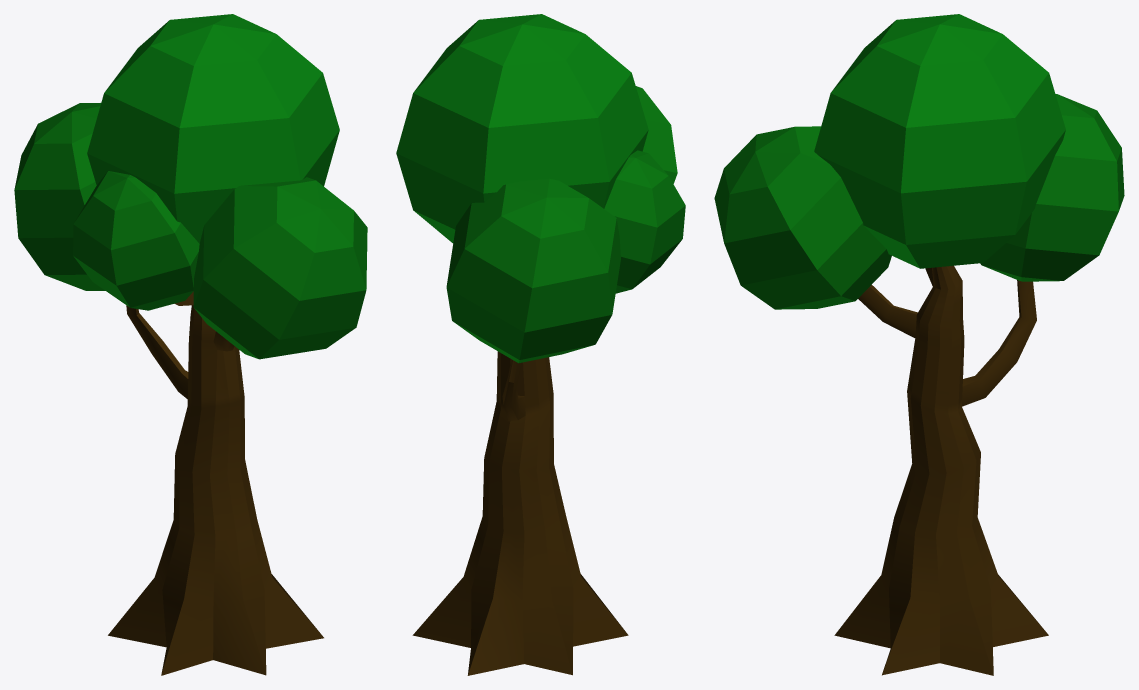
Rendered from Tree1.fbx.
3 renders of one model, left to right at view 1: azimuth 30°, elevation 25°; view 2: azimuth 150°, elevation 25°; view 3: azimuth 270°, elevation 25°, orthographic.
Visible parts, largest first — view 1: pSphere5; view 2: pSphere5; view 3: pSphere5.
Part boxes in pixels (x1,y1,x2,y2): pSphere5: (14,14,367,675); pSphere5: (396,14,685,675); pSphere5: (714,14,1124,675).
Bounding box in the file's own units: 7.34 × 17.24 × 10.47.
